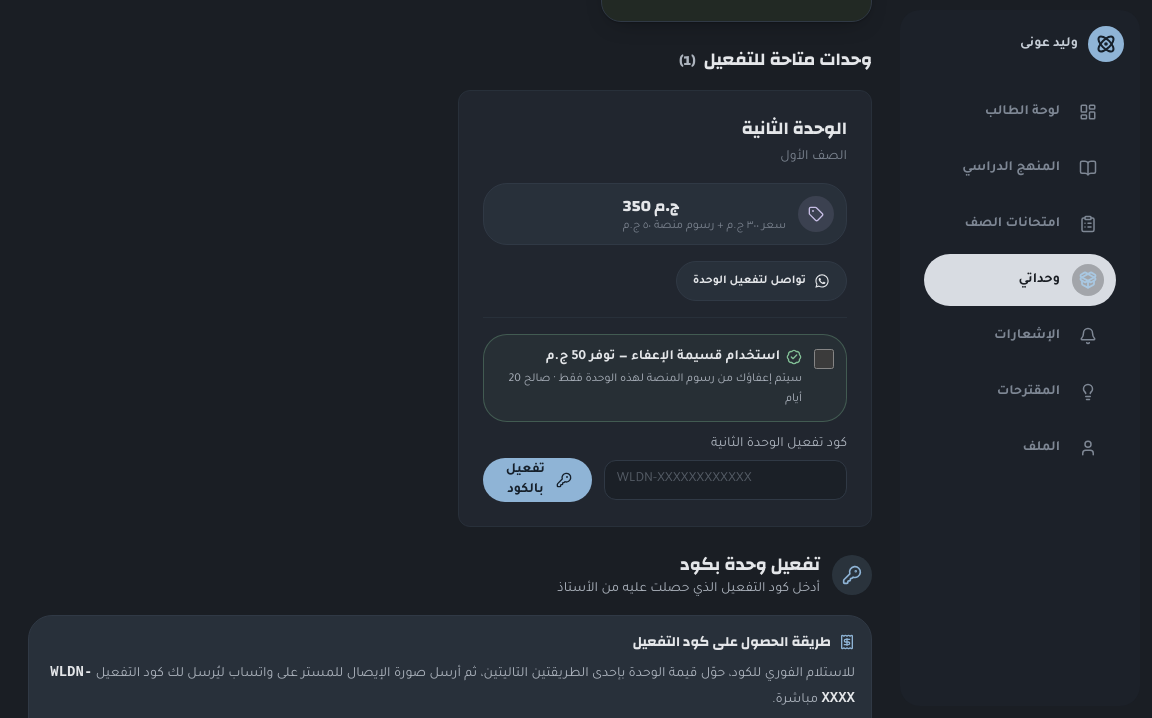
UnitsPage › applies the voucher from a locked unit card with the waived fee shown
The image size is (1152, 718).
(page scrolled)
Check: the label with test id "voucher-redeem-unit-2" shows "50", box [546,350,631,364]
Click the checkbox with test id "voucher-redeem-unit-2-checkbox".
click(824, 358)  # box [814,348,834,368]
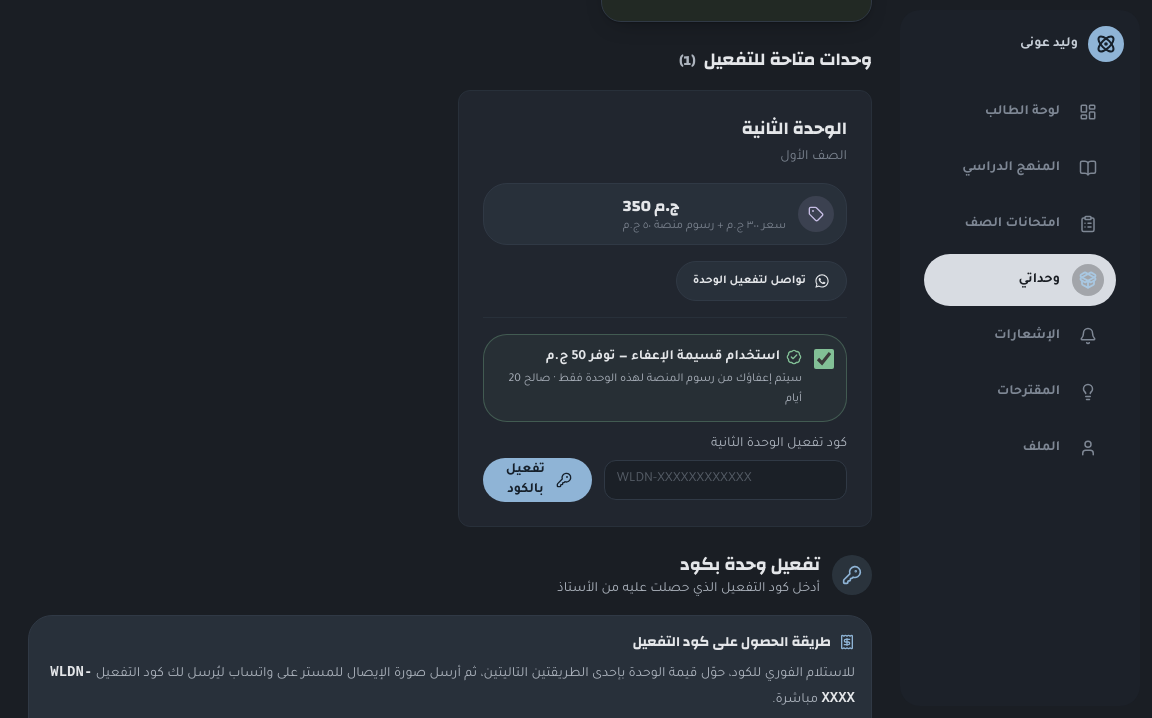
Type "WLDN-ABCD-EFGH-JKLM" into the field labelled "كود تفعيل الوحدة الثانية".
click(725, 480); type("WLDN-ABCD-EFGH-JKLM")  # box [604,460,847,500]
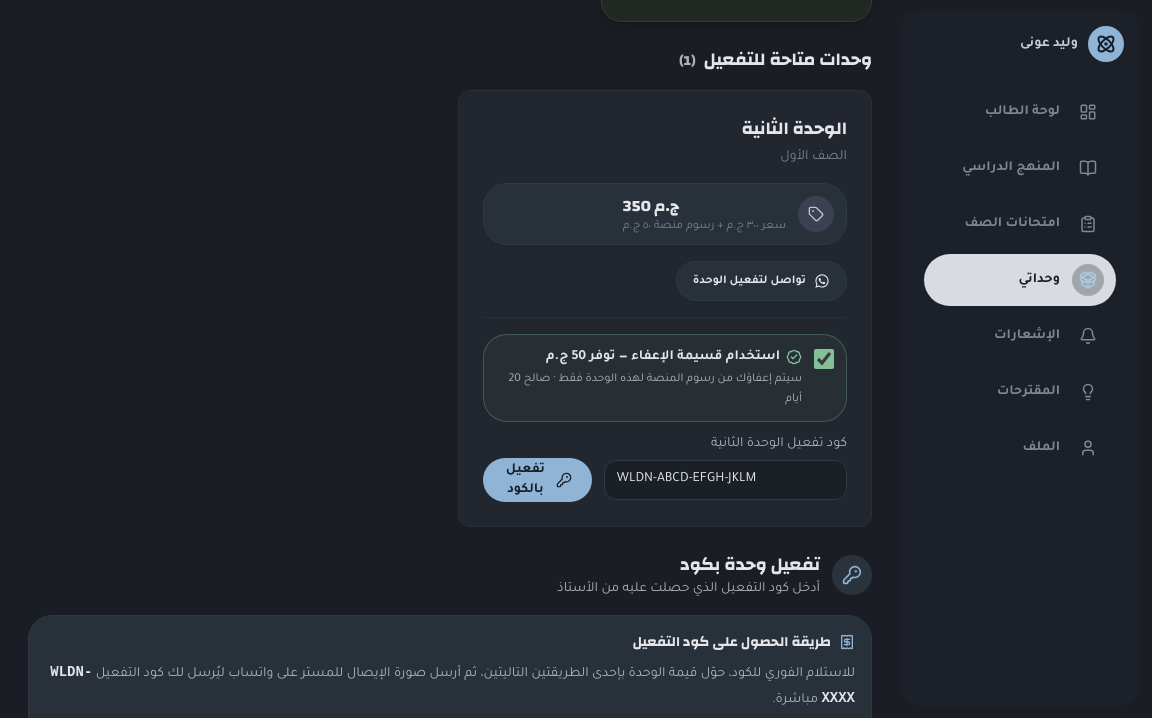
Click the button "تفعيل بالكود".
click(537, 480)  # box [483,458,592,502]
(page scrolled)
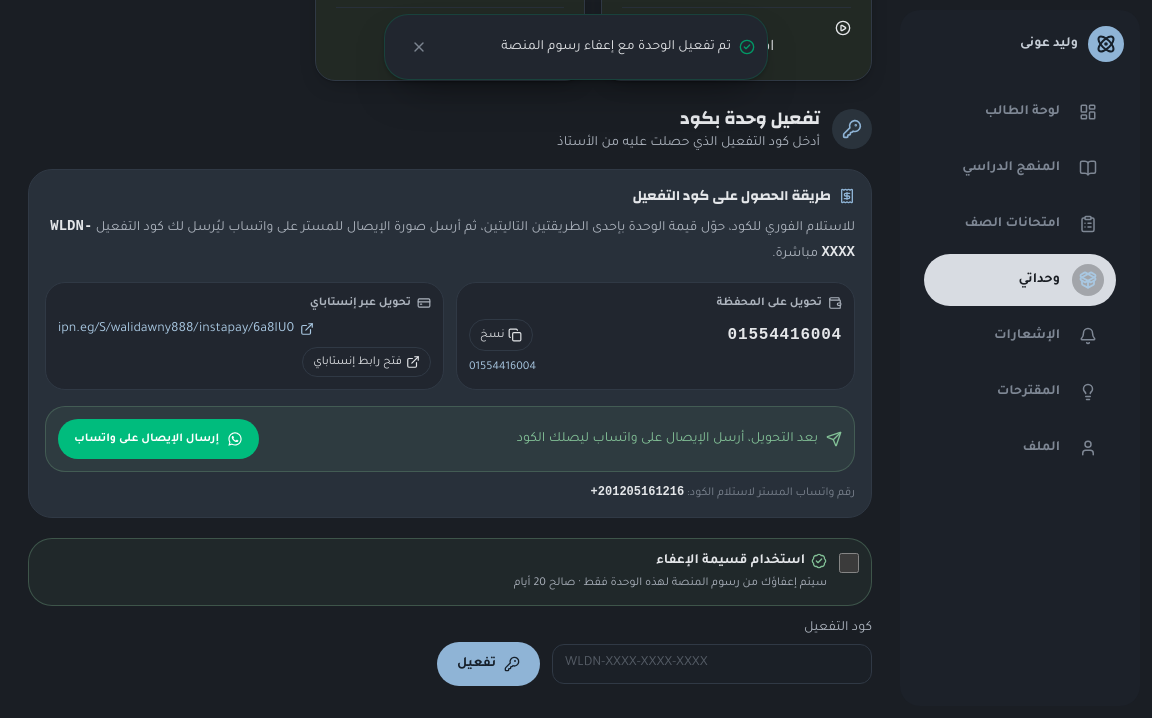
Check: the text "تم تفعيل الوحدة مع إعفاء رسوم المنصة" is shown, box [501,40,731,54]
